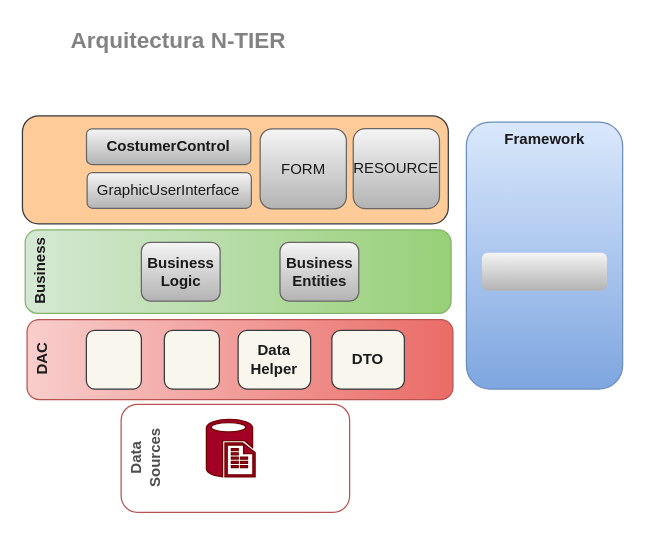
The diagram is 645 pixels wide and 535 high, and some of its shapes have lost their labels. The centre of each missing label's shape, as x and y in pixels:
"DAO" belongs at point (113, 359).
"IDAO" belongs at point (191, 359).
"SQLITE" belongs at point (230, 447).
"User Interface" belongs at point (234, 169).
"ZJ_pPatException" belongs at point (543, 271).
